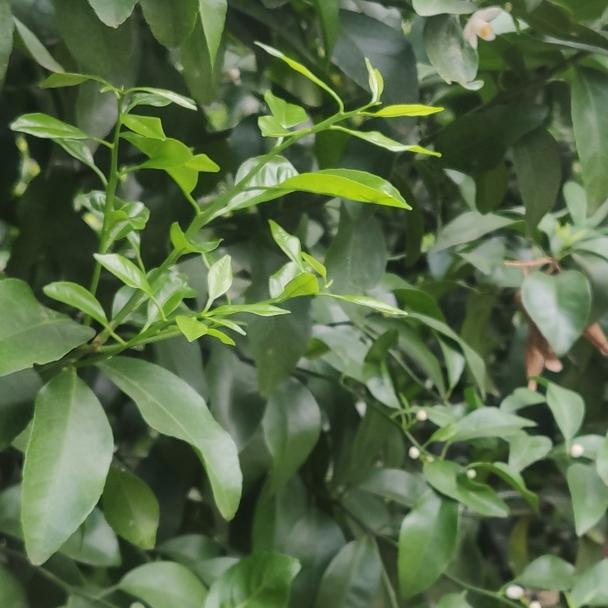shoot: (204, 58, 449, 233), (23, 63, 214, 248), (69, 248, 278, 379)
